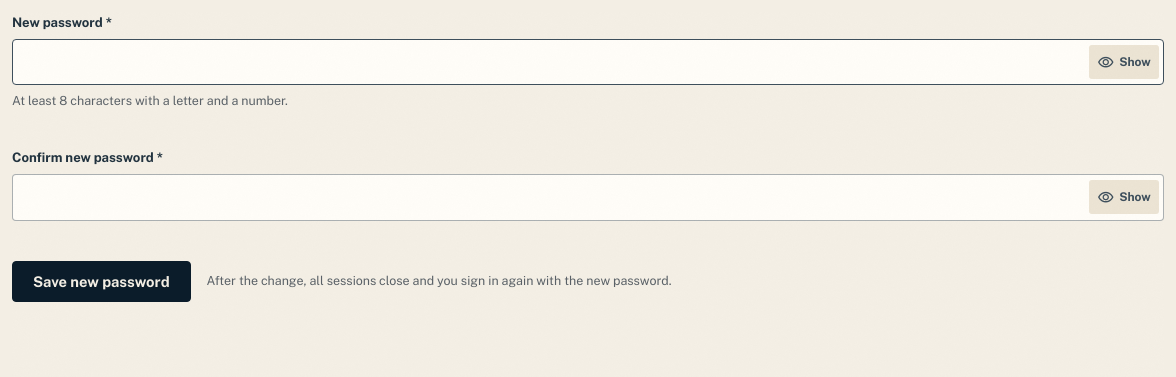
Test: PasswordResetForm › routes an MFA-enabled recovery session through the authenticator challenge instead of blaming the link
Type "SecurePass9" into the password field labelled "New password *".
click(588, 62); type("SecurePass9")  # box [12, 39, 1164, 85]
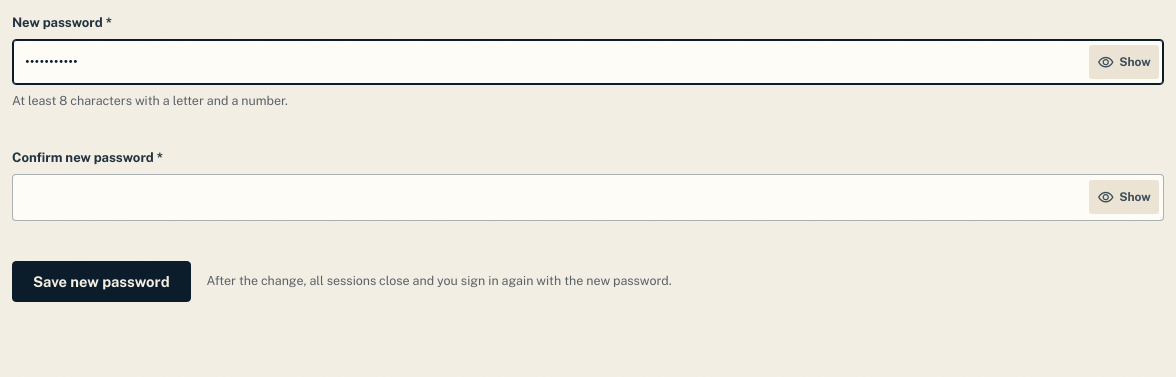
Type "SecurePass9" into the password field labelled "Confirm new password *".
click(588, 197); type("SecurePass9")  # box [12, 174, 1164, 221]
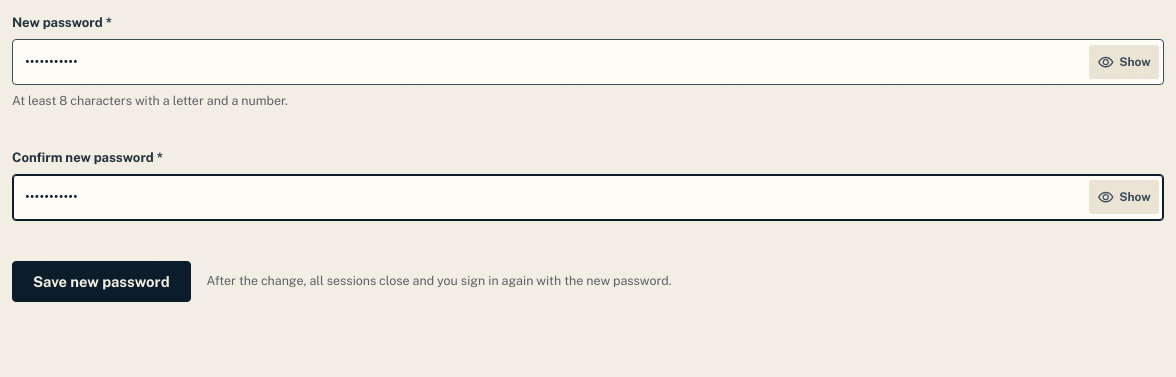
Click the button "Save new password".
click(101, 281)  # box [12, 261, 191, 302]
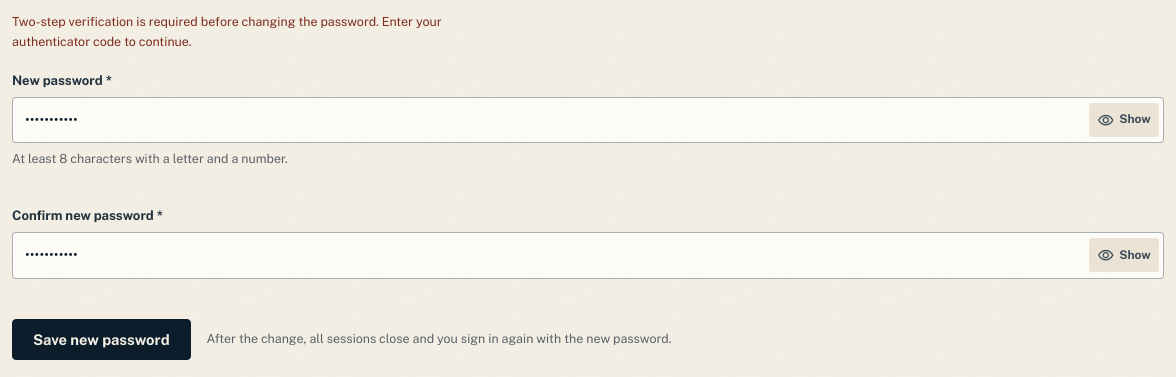
Expected: the message does not show "no longer valid", [12, 12, 516, 52]
Now the message shows "Two-step verification is required", box [12, 14, 442, 49]
